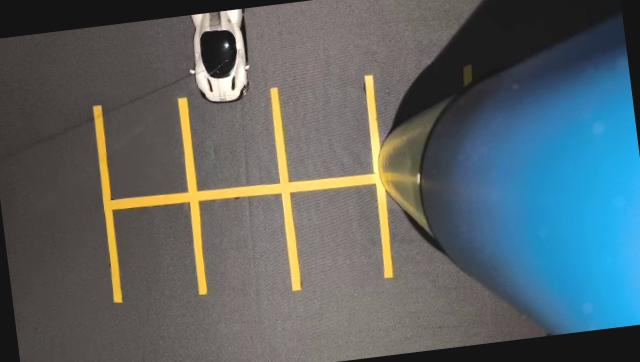toy_car: (168, 4, 288, 119)
